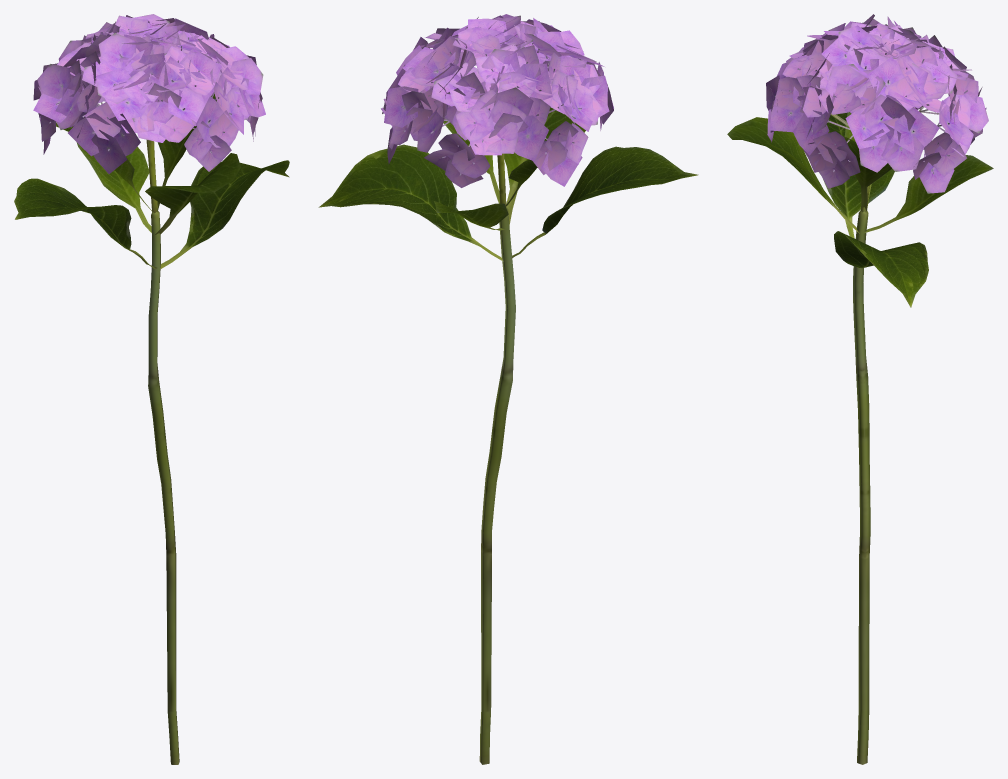
File: Hydrangea_OG_long_magenta.glb
The picture shows the model from 3 angles, left to right: view 1: azimuth 30°, elevation 25°; view 2: azimuth 150°, elevation 25°; view 3: azimuth 270°, elevation 25°; orthographic projection. The views are drawn at different scales.
Parts seen in each view (by area): view 1: Hydrangea; view 2: Hydrangea; view 3: Hydrangea.
Boxes of the visible parts, x1,y1,x2,y2 form: Hydrangea: (14, 14, 289, 764); Hydrangea: (318, 14, 698, 764); Hydrangea: (727, 14, 993, 764).
Size of the model in its own units: 1.38 by 2.99 by 1.
Materials: 1 (1 with a texture image).
